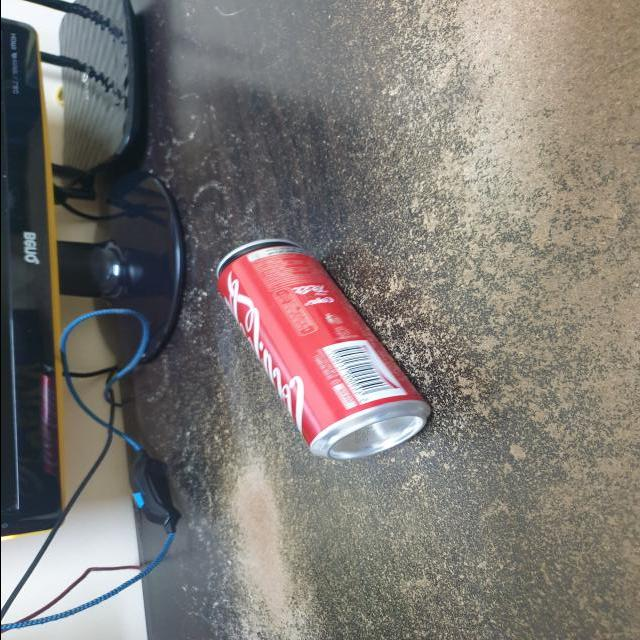can: (207, 238, 434, 461)
